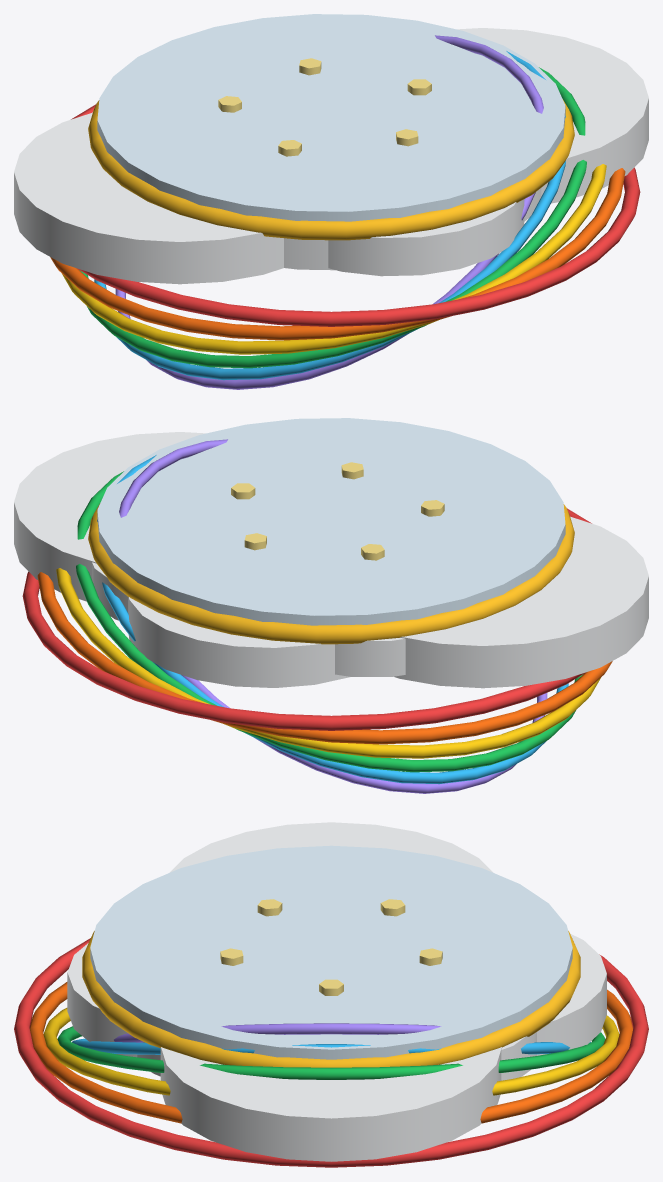
The model's file is toy_olympus_rainbow_cloud.glb.
The picture shows the model from 3 angles, top to bottom: view 1: azimuth 30°, elevation 25°; view 2: azimuth 150°, elevation 25°; view 3: azimuth 270°, elevation 25°; orthographic projection. The views are drawn at different scales.
Parts seen in each view (by area): view 1: solid_8, solid_2, solid_3, solid_9, solid_10, solid_5, solid_11, solid_12, solid_13, solid_14, solid_15, solid_1; view 2: solid_8, solid_2, solid_3, solid_4, solid_9, solid_10, solid_11, solid_12, solid_13, solid_14, solid_15, solid_6 (+1 smaller); view 3: solid_8, solid_3, solid_10, solid_9, solid_11, solid_2, solid_13, solid_12, solid_4, solid_5, solid_15, solid_14 (+1 smaller).
Part boxes in pixels (box(x1,y1,x2,y2)): solid_8: box(97, 14, 565, 221); solid_2: box(14, 112, 283, 284); solid_3: box(457, 28, 648, 203); solid_9: box(88, 99, 574, 240); solid_10: box(71, 104, 640, 326); solid_5: box(328, 199, 524, 276); solid_11: box(50, 168, 625, 340); solid_12: box(62, 164, 606, 354); solid_13: box(79, 67, 586, 368); solid_14: box(94, 51, 565, 380); solid_15: box(115, 35, 543, 389); solid_1: box(284, 188, 541, 270); solid_8: box(97, 418, 565, 625); solid_2: box(394, 516, 648, 688); solid_3: box(14, 432, 205, 601); solid_4: box(128, 597, 349, 687); solid_9: box(88, 503, 574, 644); solid_10: box(22, 508, 591, 730); solid_11: box(37, 572, 612, 744); solid_12: box(56, 568, 600, 758); solid_13: box(76, 471, 583, 772); solid_14: box(97, 455, 568, 784); solid_15: box(119, 439, 547, 793); solid_6: box(335, 638, 405, 676); solid_8: box(90, 845, 572, 1059); solid_3: box(160, 1047, 501, 1161); solid_10: box(14, 938, 648, 1167); solid_9: box(82, 931, 580, 1067); solid_11: box(30, 982, 632, 1123); solid_2: box(169, 822, 493, 872); solid_13: box(57, 1026, 605, 1079); solid_12: box(43, 1008, 619, 1095); solid_4: box(537, 934, 606, 1055); solid_5: box(67, 943, 137, 1057); solid_15: box(114, 1023, 441, 1042); solid_14: box(72, 1038, 590, 1054).
Bounding box in the file's own units: 6.16 × 2.22 × 5.58.
